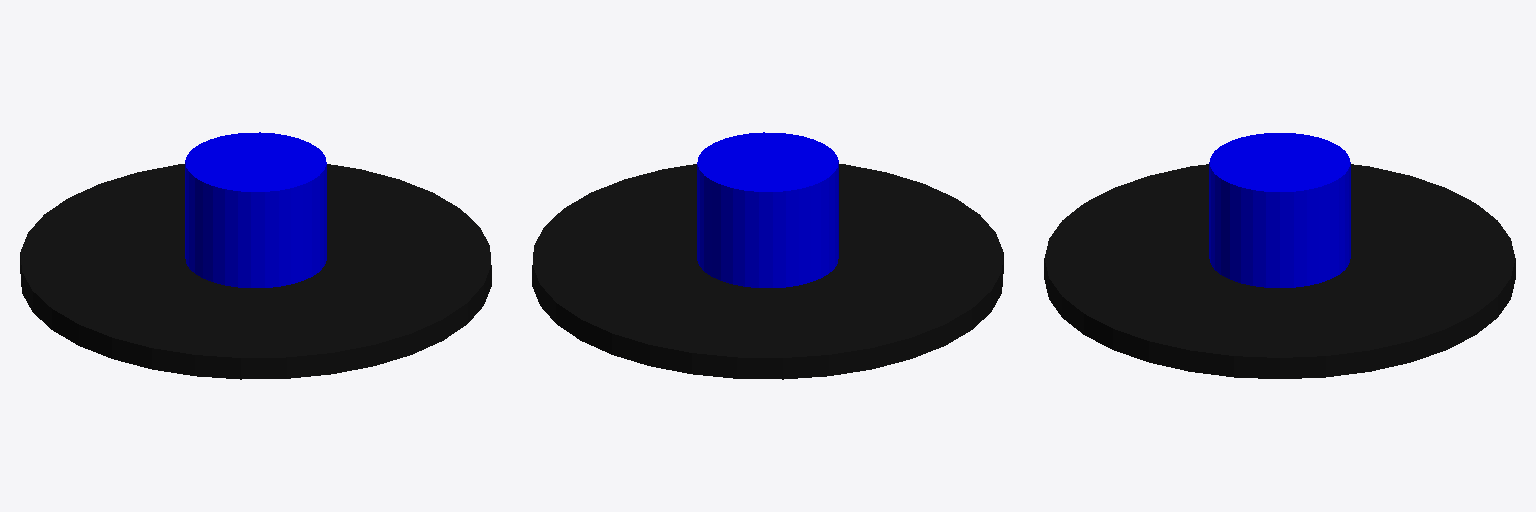
robot.urdf — simple_lidar:
<?xml version="1.0"?>
<robot name="simple_lidar">
    <!-- Base link to fix the LIDAR in space -->
    <link name="base_link">
        <visual>
            <geometry>
                <cylinder length="0.01" radius="0.1"/>
            </geometry>
            <material name="black">
                <color rgba="0.1 0.1 0.1 1"/>
            </material>
        </visual>
        <collision>
            <geometry>
                <cylinder length="0.01" radius="0.1"/>
            </geometry>
        </collision>
        <inertial>
            <mass value="0.1"/>
            <inertia ixx="0.0001" ixy="0.0" ixz="0.0" iyy="0.0001" iyz="0.0" izz="0.0001"/>
        </inertial>
    </link>

    <!-- LIDAR link -->
    <link name="lidar_link">
        <visual>
            <geometry>
                <cylinder length="0.05" radius="0.03"/>
            </geometry>
            <material name="blue">
                <color rgba="0.0 0.0 1.0 0.8"/>
            </material>
        </visual>
        <collision>
            <geometry>
                <cylinder length="0.05" radius="0.03"/>
            </geometry>
        </collision>
        <inertial>
            <mass value="0.1"/>
            <inertia ixx="0.0001" ixy="0.0" ixz="0.0" iyy="0.0001" iyz="0.0" izz="0.0001"/>
        </inertial>
    </link>

    <!-- LIDAR joint -->
    <joint name="lidar_joint" type="fixed">
        <parent link="base_link"/>
        <child link="lidar_link"/>
        <origin xyz="0 0 0.025" rpy="0 0 0"/>
    </joint>

    <!-- Gazebo LIDAR Plugin -->
    <gazebo reference="lidar_link">
        <sensor name="lidar" type="gpu_lidar">
            <pose>0 0 0 0 0 0</pose>
            <visualize>true</visualize>
            <update_rate>10</update_rate>
            <always_on>1</always_on>
            <lidar>
                <scan>
                    <horizontal>
                        <samples>360</samples>
                        <resolution>1</resolution>
                        <min_angle>-3.14159</min_angle>
                        <max_angle>3.14159</max_angle>
                    </horizontal>
                </scan>
                <range>
                    <min>0.1</min>
                    <max>30.0</max>
                    <resolution>0.01</resolution>
                </range>
                <noise>
                    <type>gaussian</type>
                    <mean>0.0</mean>
                    <stddev>0.01</stddev>
                </noise>
            </lidar>
            <plugin filename="libgz-sim-sensors-system.so" name="gz::sim::systems::Sensors">
                <topic>lidar/scan</topic>
                <ros>
                    <namespace>/</namespace>
                    <remapping>~/out:=scan</remapping>
                </ros>
                <output_type>sensor_msgs/msg/LaserScan</output_type>
                <frame_name>lidar_link</frame_name>
            </plugin>
        </sensor>
    </gazebo>
</robot>

--- Facts derived from the render (not from the file) ---
Views: 3 orthographic renders of the robot side by side, from view 1: azimuth 30°, elevation 25°; view 2: azimuth 150°, elevation 25°; view 3: azimuth 270°, elevation 25°.
Robot: simple_lidar — 2 links, 1 joints (1 fixed); root link base_link; default pose: every joint at zero.
Visible links, largest first — view 1: base_link, lidar_link; view 2: base_link, lidar_link; view 3: base_link, lidar_link.
Boxes of the visible links, left/top/right/bottom form: base_link: left=20, top=164, right=491, bottom=379; lidar_link: left=185, top=132, right=326, bottom=287; base_link: left=532, top=164, right=1003, bottom=379; lidar_link: left=697, top=132, right=838, bottom=287; base_link: left=1044, top=164, right=1515, bottom=378; lidar_link: left=1209, top=133, right=1350, bottom=287.
Bounding box of the posed robot: 0.2 × 0.2 × 0.055 m (x, y, z).
Geometry: primitives only (box / cylinder / sphere), no mesh files.